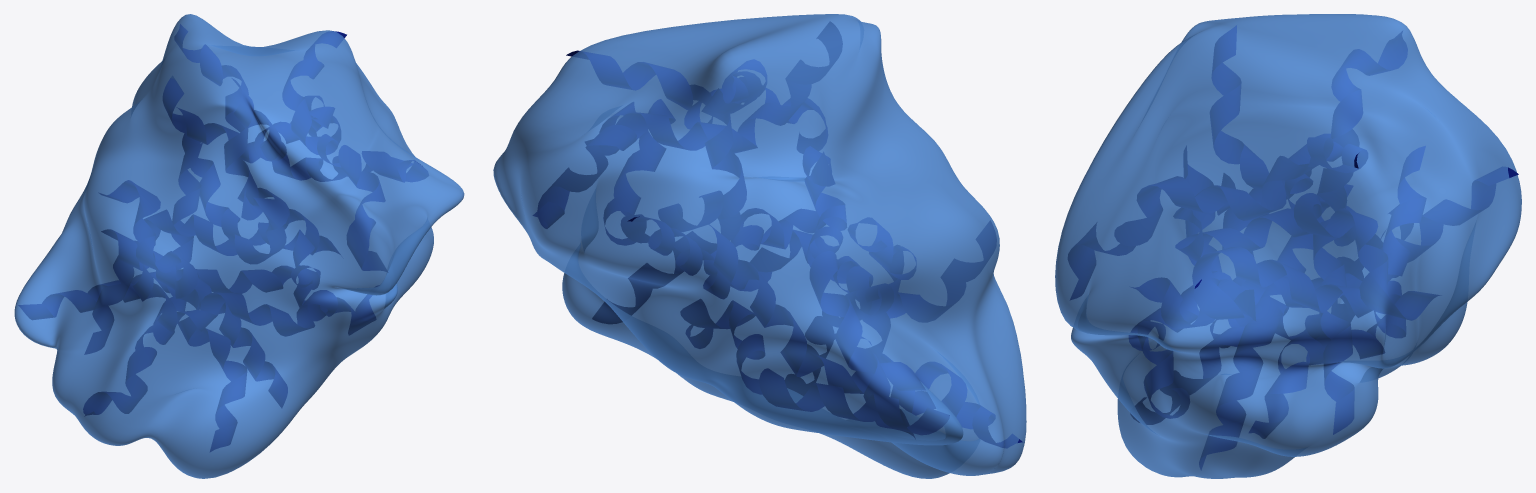
File: XRCC4_v1.fbx
3 views of the same model, side by side, from view 1: azimuth 30°, elevation 25°; view 2: azimuth 150°, elevation 25°; view 3: azimuth 270°, elevation 25° (orthographic). The views are drawn at different scales.
Parts seen in each view (by area): view 1: Surface, AlphaHelix.003, AlphaHelix.001, AlphaHelix.007, AlphaHelix.004, AlphaHelix.002, AlphaHelix.009, AlphaHelix.006, AlphaHelix.005, AlphaHelix.010, AlphaHelix, AlphaHelix.008; view 2: Surface, AlphaHelix.008, AlphaHelix.002, AlphaHelix.005, AlphaHelix.001, AlphaHelix.009, AlphaHelix.004, AlphaHelix.007, AlphaHelix.010, AlphaHelix.006, AlphaHelix.003, AlphaHelix; view 3: Surface, AlphaHelix.008, AlphaHelix.007, AlphaHelix.009, AlphaHelix.010, AlphaHelix.006, AlphaHelix, AlphaHelix.005, AlphaHelix.004, AlphaHelix.001, AlphaHelix.003, AlphaHelix.002.
Boxes of the visible parts, box(x1,y1,x2,y2) form: Surface: box(14, 14, 464, 478); AlphaHelix.003: box(99, 180, 246, 451); AlphaHelix.001: box(84, 189, 288, 354); AlphaHelix.007: box(282, 31, 387, 271); AlphaHelix.004: box(133, 265, 378, 336); AlphaHelix.002: box(83, 143, 202, 416); AlphaHelix.009: box(174, 24, 340, 254); AlphaHelix.006: box(163, 78, 320, 289); AlphaHelix.005: box(18, 266, 325, 320); AlphaHelix.010: box(178, 108, 428, 182); AlphaHelix: box(101, 229, 287, 407); AlphaHelix.008: box(232, 78, 340, 161); Surface: box(493, 14, 1026, 478); AlphaHelix.008: box(533, 22, 842, 228); AlphaHelix.002: box(710, 225, 1022, 447); AlphaHelix.005: box(680, 299, 949, 434); AlphaHelix.001: box(803, 146, 914, 437); AlphaHelix.009: box(592, 71, 761, 323); AlphaHelix.004: box(704, 220, 996, 322); AlphaHelix.007: box(566, 50, 827, 153); AlphaHelix.010: box(585, 99, 723, 245); AlphaHelix.006: box(627, 208, 825, 298); AlphaHelix.003: box(848, 217, 935, 415); AlphaHelix: box(785, 283, 893, 395); Surface: box(1055, 14, 1521, 478); AlphaHelix.008: box(1210, 25, 1439, 320); AlphaHelix.007: box(1068, 137, 1367, 299); AlphaHelix.009: box(1313, 31, 1407, 434); AlphaHelix.010: box(1192, 146, 1426, 320); AlphaHelix.006: box(1132, 167, 1518, 328); AlphaHelix: box(1199, 184, 1352, 469); AlphaHelix.005: box(1249, 232, 1405, 438); AlphaHelix.004: box(1129, 146, 1231, 418); AlphaHelix.001: box(1173, 173, 1363, 319); AlphaHelix.003: box(1131, 134, 1343, 424); AlphaHelix.002: box(1210, 204, 1413, 347).
Size of the model in its own units: 601 by 590 by 508.
